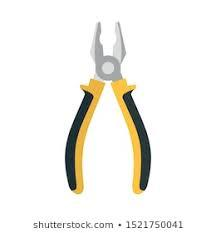pliers: (62, 19, 152, 194)
